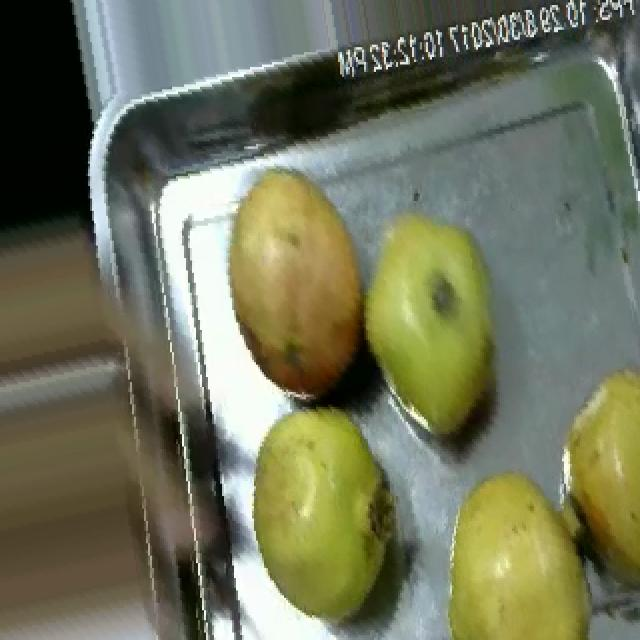fruit: (204, 144, 386, 412), (422, 444, 618, 640), (538, 345, 640, 538)
